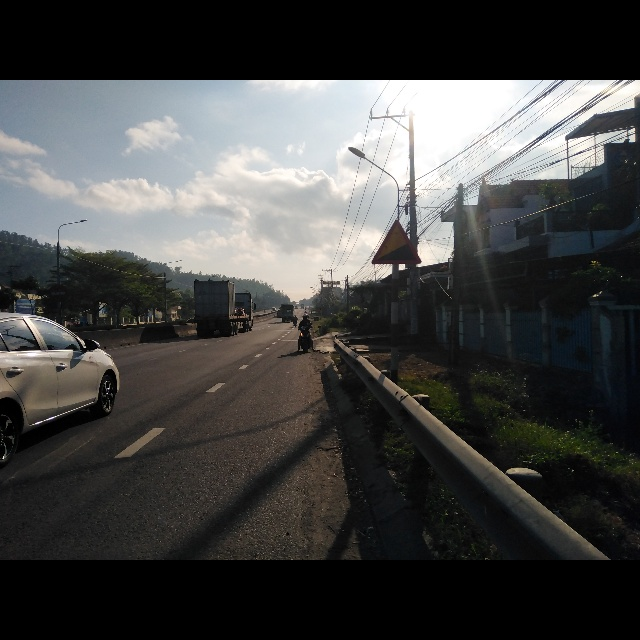Dốc lên nguy hiểm: (371, 217, 425, 265)
